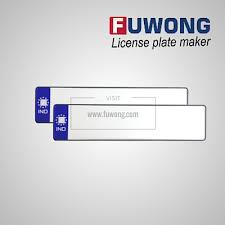inlp: (50, 101, 212, 146)
